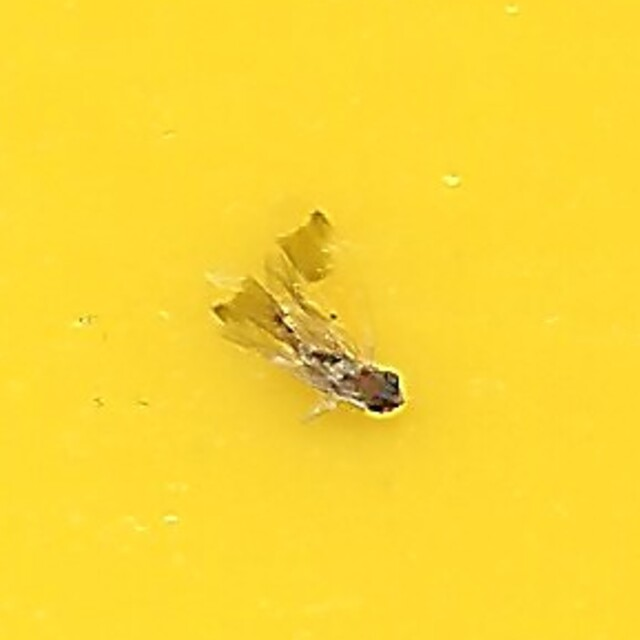Hemiptera: (221, 213, 419, 427)
